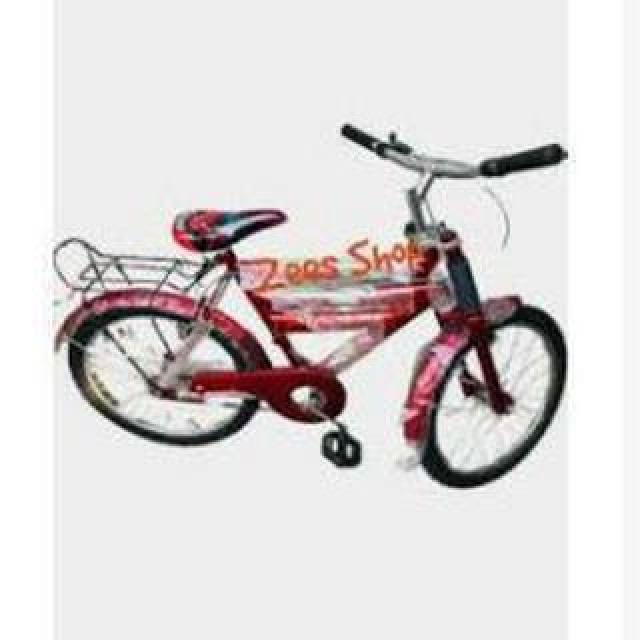Person: (54, 124, 568, 484)
